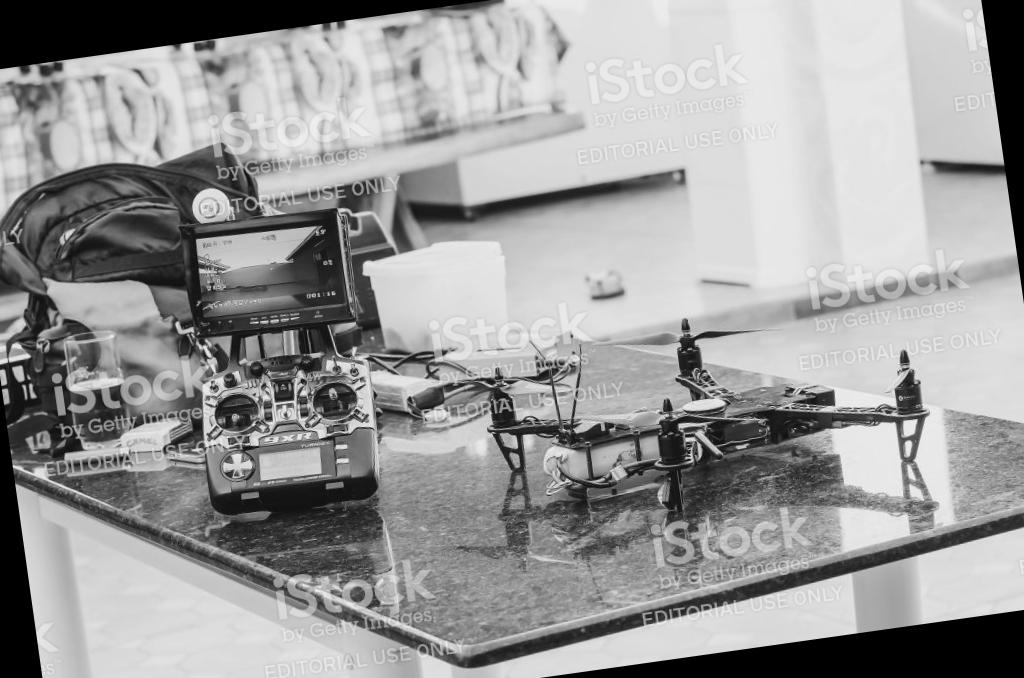drone: (458, 284, 974, 559)
